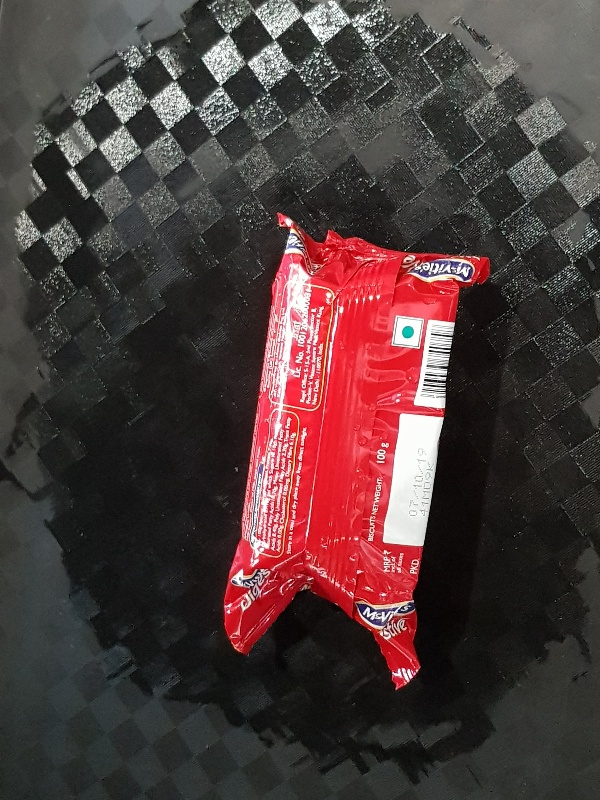Mcvitie's Digestive: (220, 209, 492, 686)
